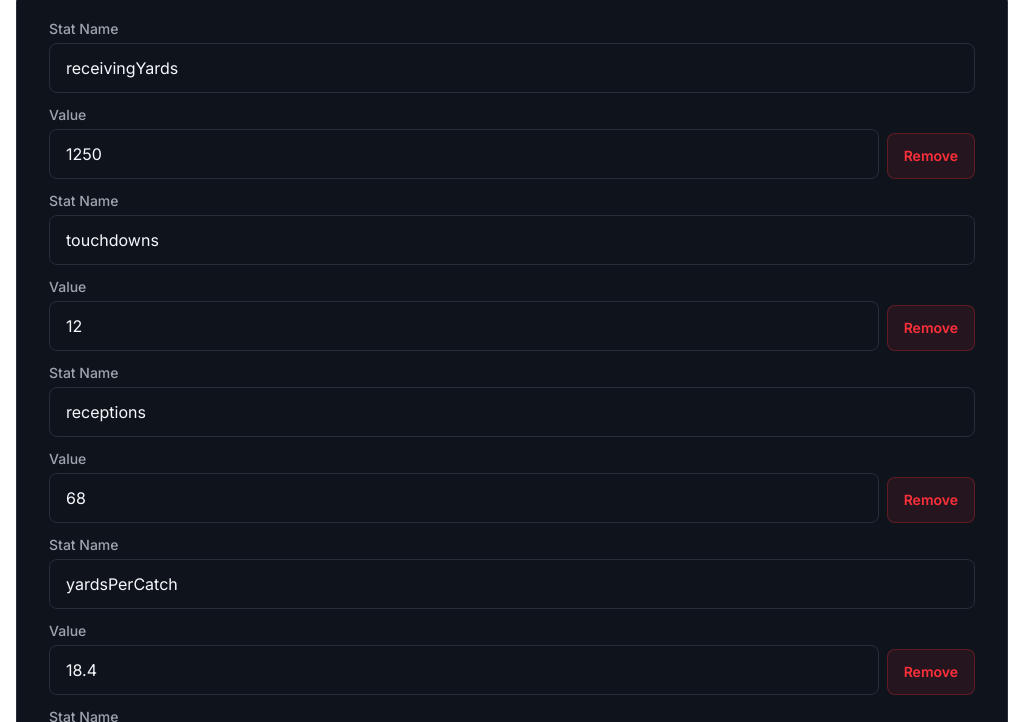
Test: StatsShowcase - Inline Editing › Validation (Requirements 1.5) › displays error when stat value is empty and save is clicked
# Clear a stat value
Clear the 1st field labelled "Value": (464, 154) left=49, top=129, right=879, bottom=179
(page scrolled)
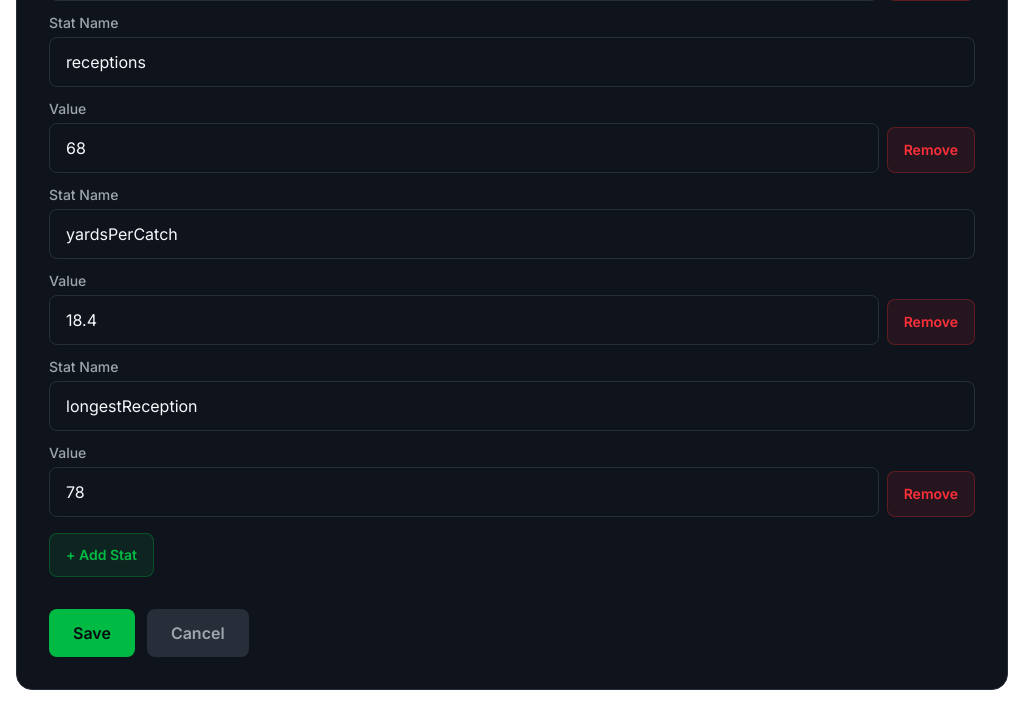
# Click save
Click the button "Save": (92, 633) left=49, top=609, right=135, bottom=657
(page scrolled)
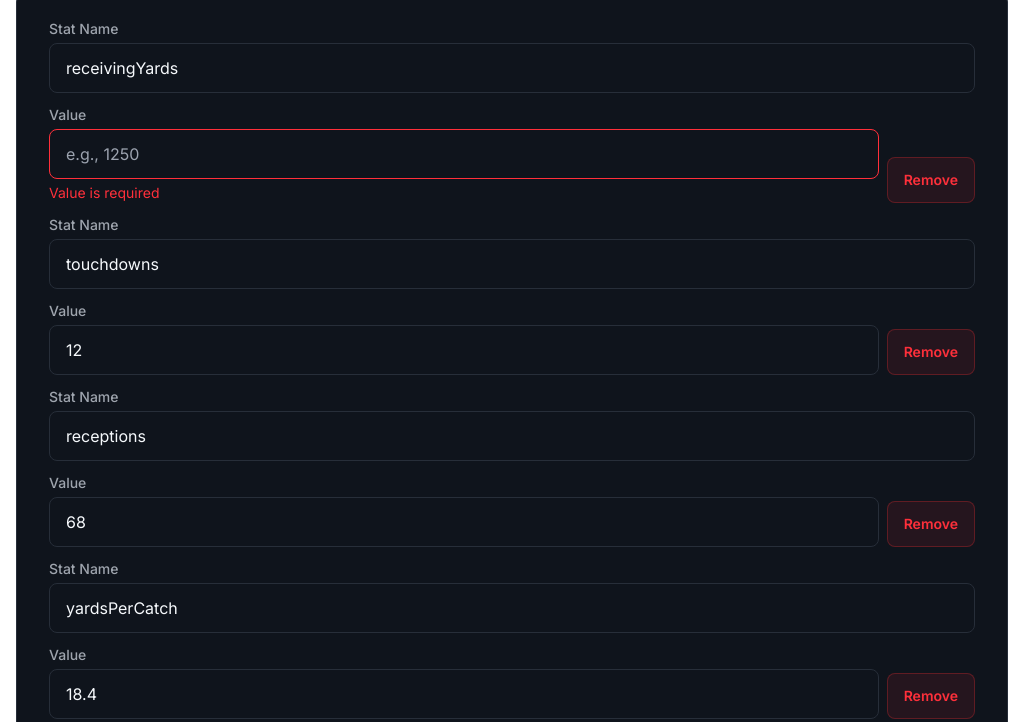
Expected: the text "Value is required" is shown, left=49, top=184, right=160, bottom=201
